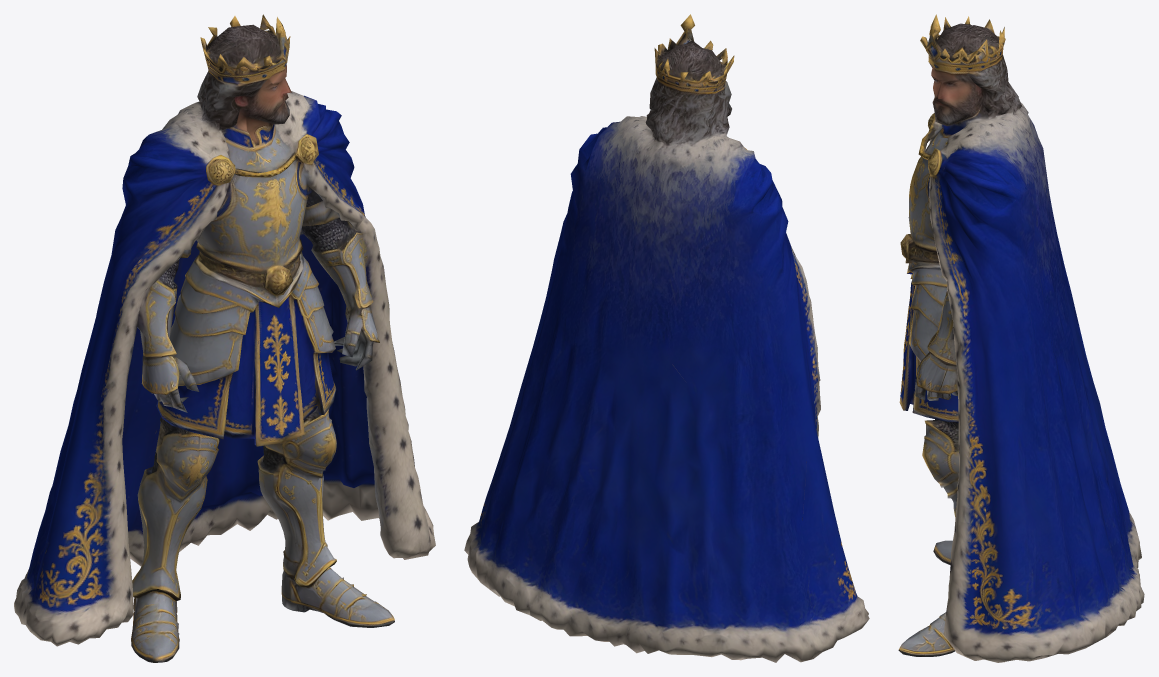
File: royal-king.glb
3 views of the same model, side by side, from view 1: azimuth 30°, elevation 25°; view 2: azimuth 150°, elevation 25°; view 3: azimuth 270°, elevation 25° (orthographic). The views are drawn at different scales.
Visible parts, largest first — view 1: tripo_node_2875a082-c245-4170-9ba2-489ae6c68b84; view 2: tripo_node_2875a082-c245-4170-9ba2-489ae6c68b84; view 3: tripo_node_2875a082-c245-4170-9ba2-489ae6c68b84.
Boxes of the visible parts, bbox=[...] form: tripo_node_2875a082-c245-4170-9ba2-489ae6c68b84: bbox=[14, 14, 435, 662]; tripo_node_2875a082-c245-4170-9ba2-489ae6c68b84: bbox=[464, 14, 869, 662]; tripo_node_2875a082-c245-4170-9ba2-489ae6c68b84: bbox=[898, 14, 1144, 662].
Size of the model in its own units: 0.6831 by 0.9973 by 0.3736.
1 material, 1 textured.
